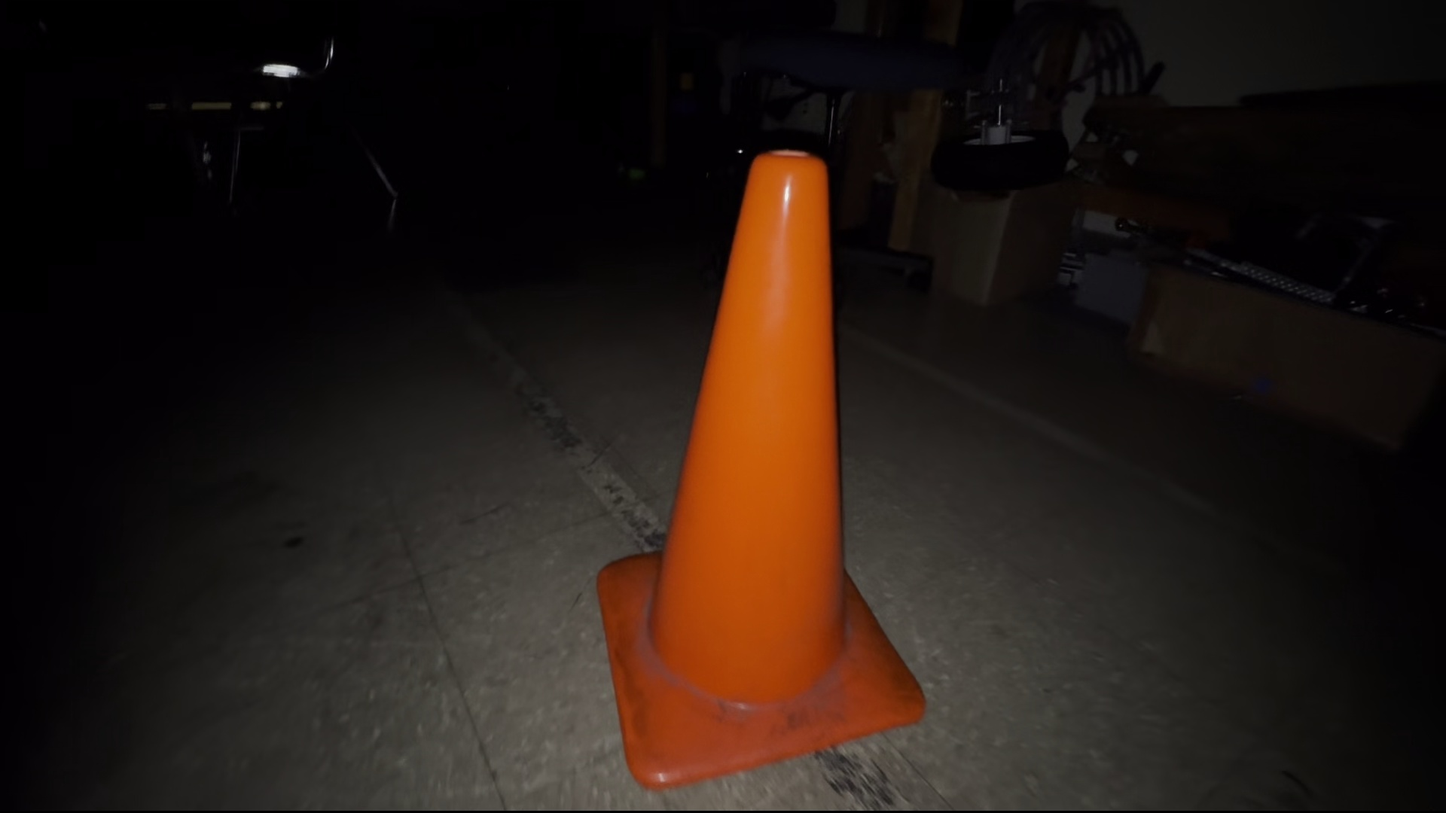traffic_cone: (595, 148, 928, 792)
